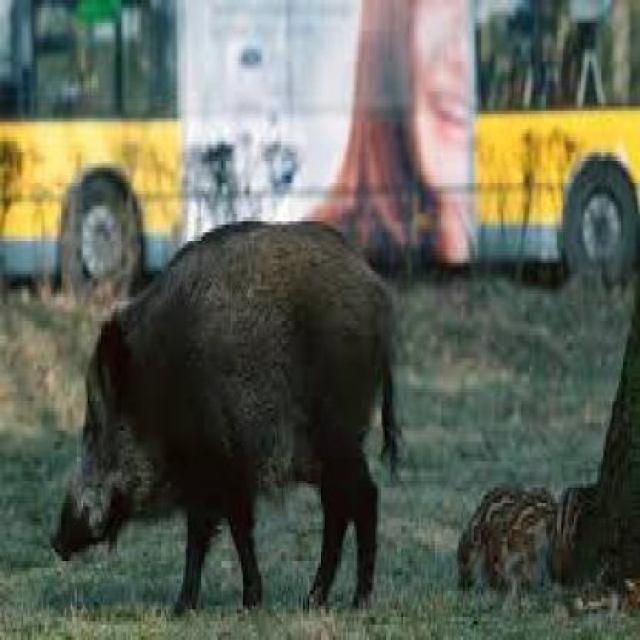wildboar: (48, 217, 403, 621), (490, 479, 567, 607), (454, 472, 532, 598), (542, 474, 613, 600)
